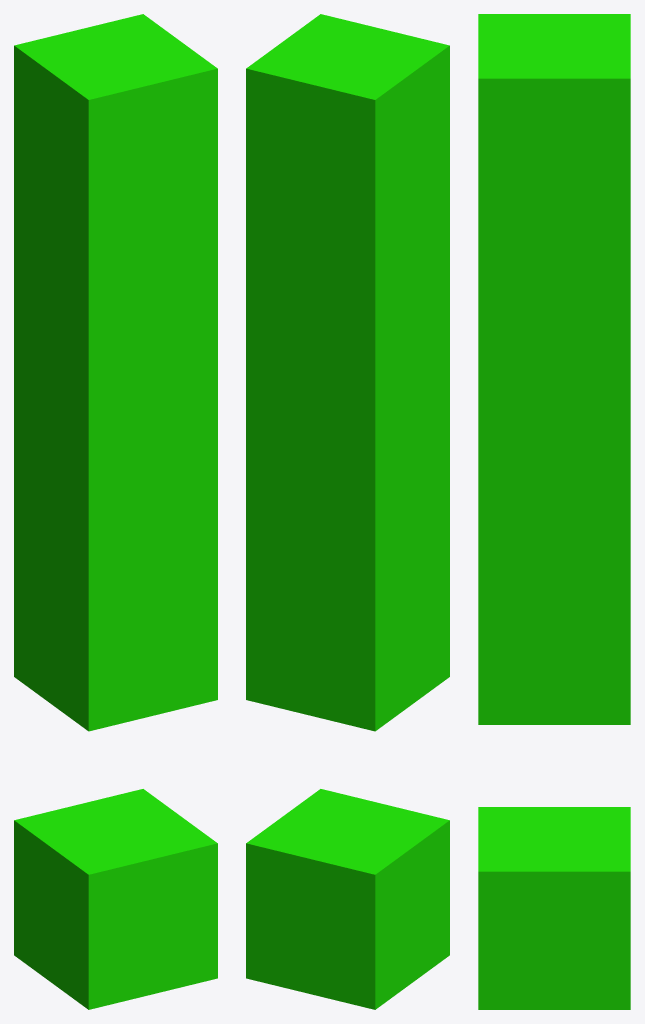
File: Mark.fbx
3 renders of one model, left to right at view 1: azimuth 30°, elevation 25°; view 2: azimuth 150°, elevation 25°; view 3: azimuth 270°, elevation 25°, orthographic. The views are drawn at different scales.
Parts seen in each view (by area): view 1: Mark; view 2: Mark; view 3: Mark.
Boxes of the visible parts, left/top/right/bottom form: Mark: left=14, top=14, right=217, bottom=1009; Mark: left=246, top=14, right=449, bottom=1009; Mark: left=478, top=14, right=630, bottom=1009.
Size of the model in its own units: 0.5512 by 3.71 by 0.5512.
